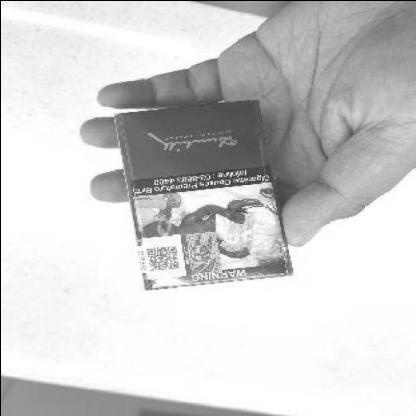objects: (113, 99, 292, 289)
